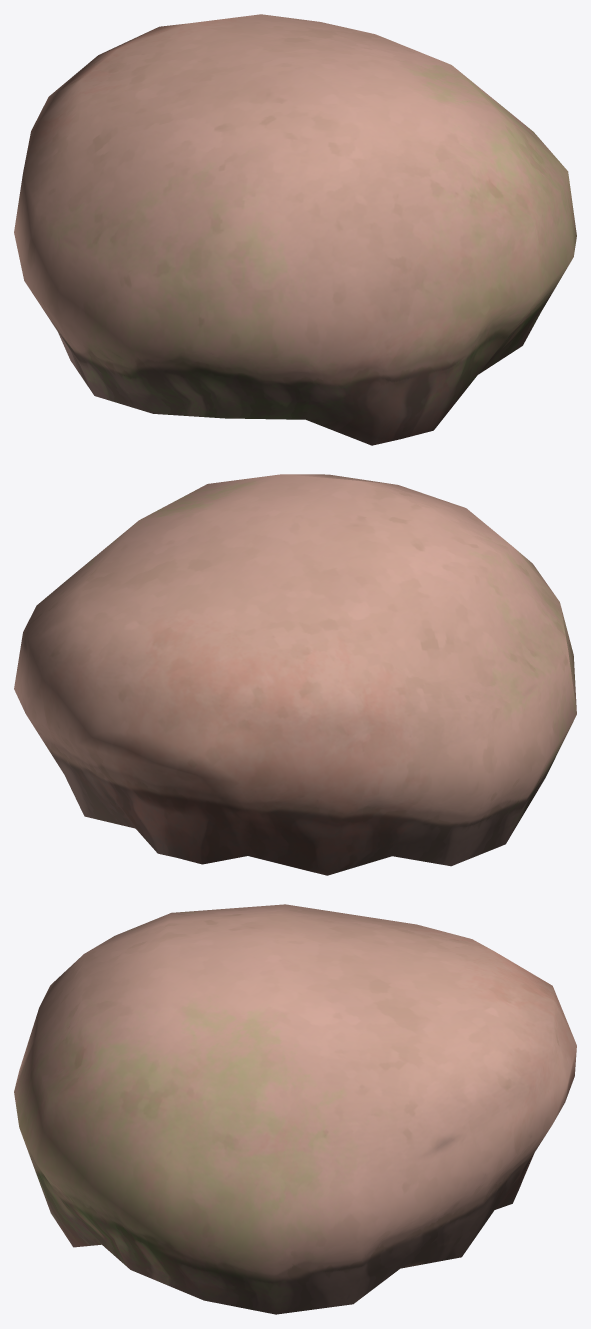
File: Coral01_low_FBX_still.fbx
3 views of the same model, one above another, from view 1: azimuth 30°, elevation 25°; view 2: azimuth 150°, elevation 25°; view 3: azimuth 270°, elevation 25° (orthographic).
Parts seen in each view (by area): view 1: Coral01_low_gameasset; view 2: Coral01_low_gameasset; view 3: Coral01_low_gameasset.
Part boxes in pixels (bbox=[...]): Coral01_low_gameasset: bbox=[14, 14, 576, 445]; Coral01_low_gameasset: bbox=[14, 474, 576, 875]; Coral01_low_gameasset: bbox=[14, 904, 576, 1314].
Bounding box in the file's own units: 1.98 × 1.15 × 2.
1 material, 1 textured.
